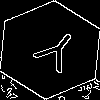Y: (25, 25, 84, 82)
